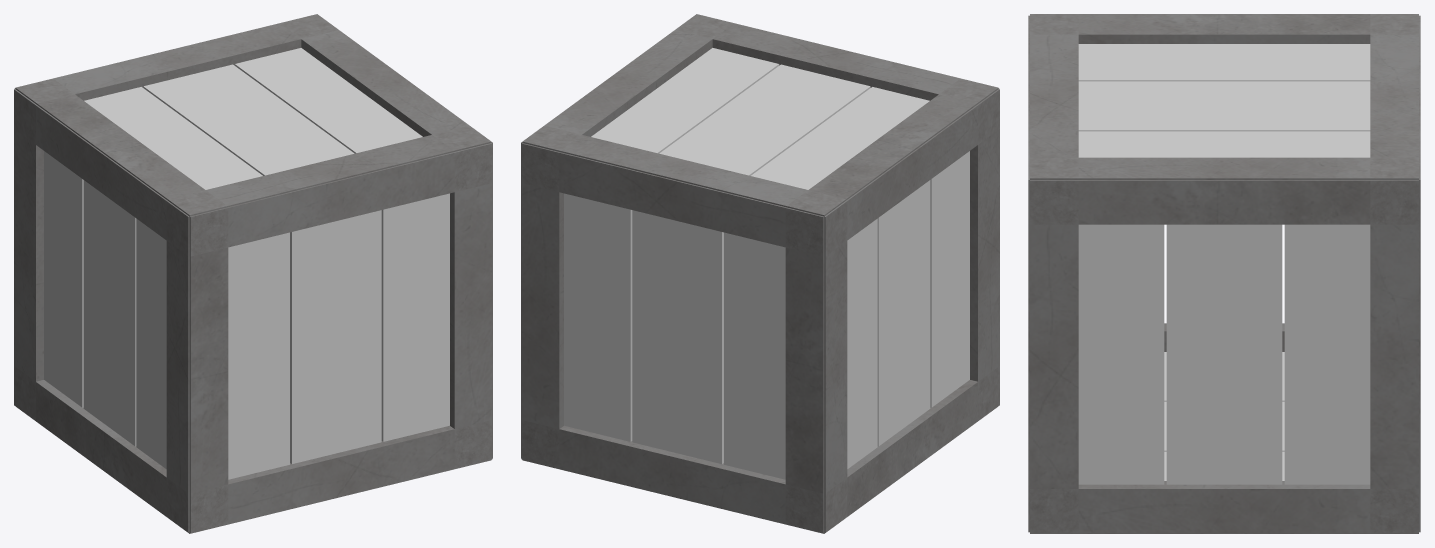
Rendered from blocco_intero (1).fbx.
3 views of the same model, side by side, from view 1: azimuth 30°, elevation 25°; view 2: azimuth 150°, elevation 25°; view 3: azimuth 270°, elevation 25° (orthographic). The views are drawn at different scales.
Parts seen in each view (by area): view 1: blocco_intero; view 2: blocco_intero; view 3: blocco_intero.
Boxes of the visible parts, left/top/right/bottom form: blocco_intero: left=14, top=14, right=492, bottom=533; blocco_intero: left=521, top=14, right=999, bottom=533; blocco_intero: left=1028, top=14, right=1420, bottom=533.
Size of the model in its own units: 222 by 222 by 222.
